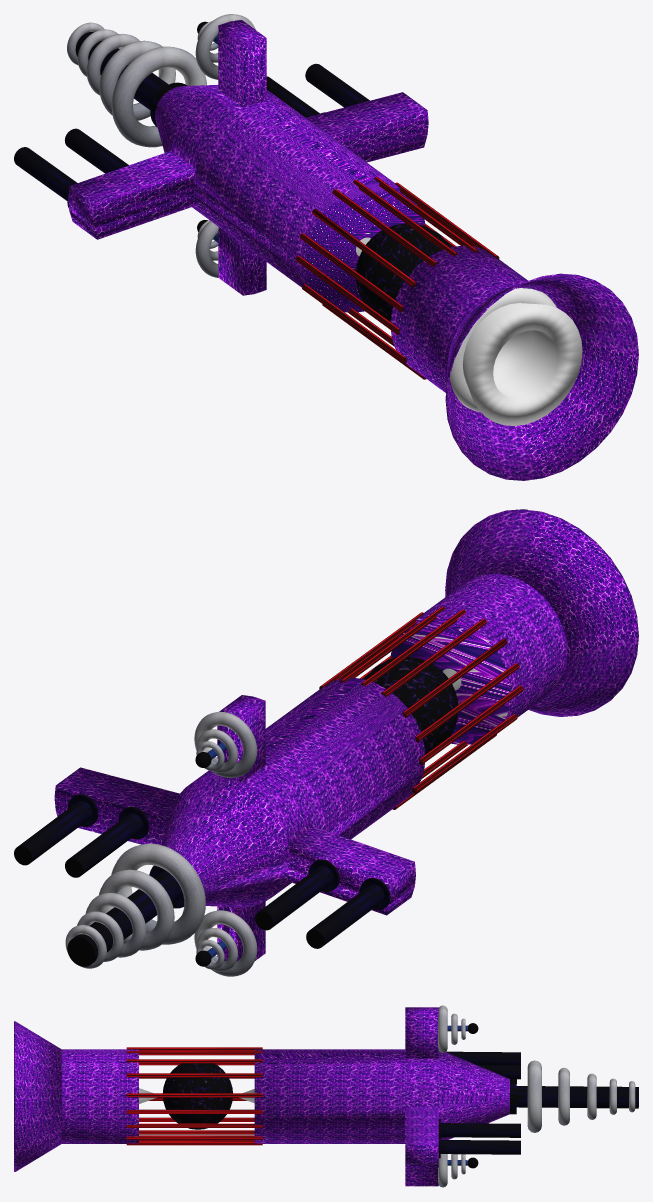
Rendered from master__.gltf.
The picture shows the model from 3 angles, top to bottom: view 1: azimuth 30°, elevation 25°; view 2: azimuth 150°, elevation 25°; view 3: azimuth 270°, elevation 25°; orthographic projection. The views are drawn at different scales.
Parts seen in each view (by area): view 1: Cylinder.001, Cone.000, Torus.006, Sphere.000, Torus.008, Torus.010, Cylinder.010, Cylinder.000, Cylinder.011, Cylinder.009, Torus.002, Torus.009 (+10 smaller); view 2: Cylinder.001, Sphere.000, Torus.006, Cylinder.000, Torus.008, Cylinder.011, Cylinder.009, Cylinder.016, Cylinder.010, Torus.002, Torus.005, Torus.009 (+12 smaller); view 3: Cylinder.001, Sphere.000, Cylinder.000, Cylinder.009, Cylinder.016, Torus.006, Cylinder.010, Cylinder.008, Cylinder.047, Torus.008, Cylinder.048, Cylinder.007 (+12 smaller).
Part boxes in pixels (x1=…): Cylinder.001: x1=68, y1=20, x2=638, y2=480; Cone.000: x1=462, y1=303, x2=582, y2=425; Torus.006: x1=111, y1=46, x2=206, y2=147; Sphere.000: x1=356, y1=223, x2=450, y2=321; Torus.008: x1=99, y1=40, x2=175, y2=120; Torus.010: x1=449, y1=288, x2=556, y2=412; Cylinder.010: x1=14, y1=147, x2=77, y2=208; Cylinder.000: x1=75, y1=32, x2=187, y2=127; Cylinder.011: x1=64, y1=128, x2=128, y2=173; Cylinder.009: x1=305, y1=63, x2=369, y2=107; Torus.002: x1=195, y1=14, x2=255, y2=79; Torus.009: x1=86, y1=34, x2=139, y2=95; Cylinder.001: x1=54, y1=509, x2=638, y2=961; Sphere.000: x1=364, y1=657, x2=458, y2=754; Torus.006: x1=111, y1=843, x2=205, y2=944; Cylinder.000: x1=67, y1=865, x2=184, y2=966; Torus.008: x1=98, y1=869, x2=174, y2=950; Cylinder.011: x1=255, y1=859, x2=339, y2=930; Cylinder.009: x1=14, y1=794, x2=98, y2=865; Cylinder.016: x1=65, y1=807, x2=149, y2=877; Cylinder.010: x1=306, y1=878, x2=390, y2=948; Torus.002: x1=194, y1=711, x2=257, y2=778; Torus.005: x1=194, y1=910, x2=257, y2=976; Torus.009: x1=85, y1=893, x2=146, y2=957; Cylinder.001: x1=14, y1=1007, x2=509, y2=1186; Sphere.000: x1=163, y1=1063, x2=232, y2=1129; Cylinder.000: x1=510, y1=1079, x2=638, y2=1114; Cylinder.009: x1=438, y1=1135, x2=520, y2=1158; Cylinder.016: x1=438, y1=1118, x2=520, y2=1137; Torus.006: x1=527, y1=1060, x2=541, y2=1132; Cylinder.010: x1=446, y1=1051, x2=520, y2=1064; Cylinder.008: x1=126, y1=1073, x2=262, y2=1077; Cylinder.047: x1=126, y1=1093, x2=262, y2=1097; Torus.008: x1=558, y1=1067, x2=569, y2=1125; Cylinder.048: x1=126, y1=1109, x2=262, y2=1113; Cylinder.007: x1=126, y1=1059, x2=262, y2=1063.
Bounding box in the file's own units: 16.46 × 12.26 × 39.06.
24 materials, 23 textured.
